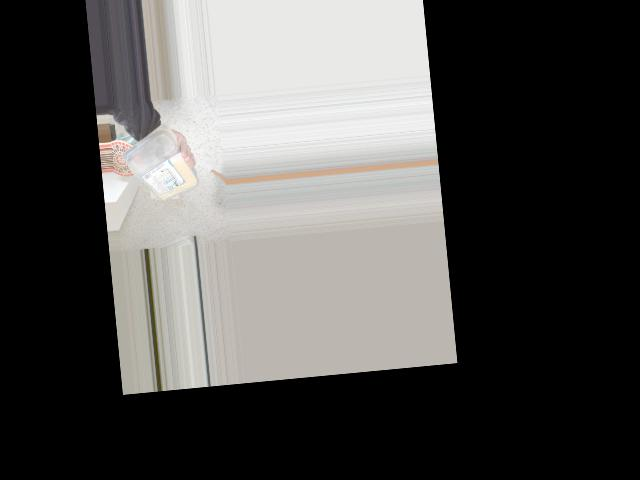cheese: (119, 130, 192, 210)
